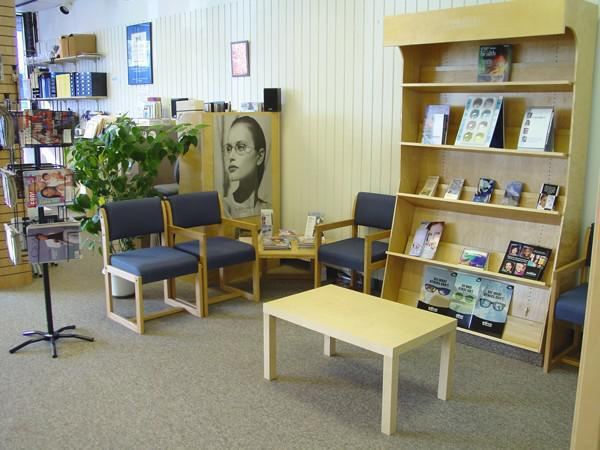Matera: (74, 122, 171, 306)
